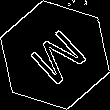M_SE: (20, 21, 90, 89)
